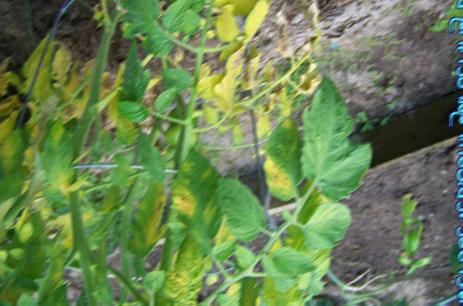Tomato leaf yellow virus: (296, 70, 374, 204), (172, 140, 235, 261), (251, 122, 310, 208), (113, 0, 181, 64), (43, 114, 81, 203), (298, 205, 350, 253)
